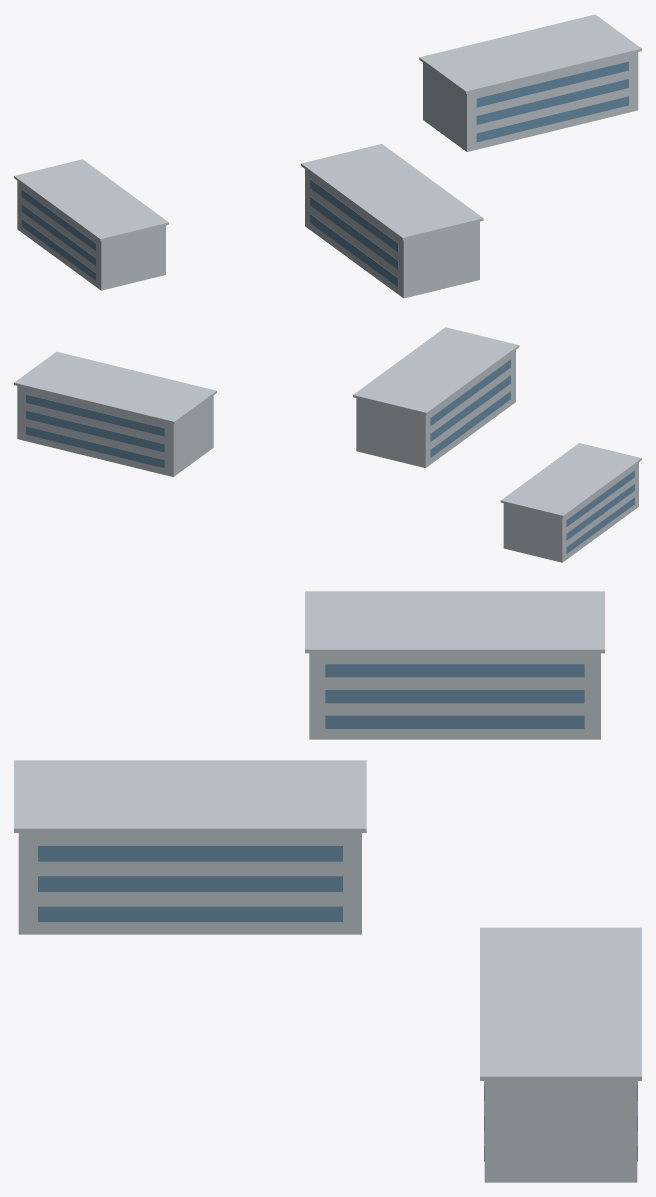
Rendered from GeoSandbox装配.glb.
3 views of the same model, one above another, from view 1: azimuth 30°, elevation 25°; view 2: azimuth 150°, elevation 25°; view 3: azimuth 270°, elevation 25° (orthographic). The views are drawn at different scales.
Visible parts, largest first — view 1: 教学楼 A 2/Main block, 教学楼 A 2/Roof cap, 教学楼 A 1/Roof cap, 教学楼 A 1/Main block, 教学楼 A 3/Roof cap, 教学楼 A 3/Main block, 教学楼 A 2/Window strip 8.03 floor 0, 教学楼 A 2/Window strip 8.03 floor 1, 教学楼 A 2/Window strip 8.03 floor 2, 教学楼 A 1/Window strip -8.03 floor 0, 教学楼 A 1/Window strip -8.03 floor 1, 教学楼 A 1/Window strip -8.03 floor 2 (+3 smaller); view 2: 教学楼 A 2/Main block, 教学楼 A 2/Roof cap, 教学楼 A 1/Roof cap, 教学楼 A 1/Main block, 教学楼 A 3/Roof cap, 教学楼 A 3/Main block, 教学楼 A 2/Window strip -8.03 floor 2, 教学楼 A 2/Window strip -8.03 floor 0, 教学楼 A 2/Window strip -8.03 floor 1, 教学楼 A 1/Window strip -8.03 floor 1, 教学楼 A 1/Window strip -8.03 floor 2, 教学楼 A 1/Window strip -8.03 floor 0 (+3 smaller); view 3: 教学楼 A 1/Roof cap, 教学楼 A 2/Roof cap, 教学楼 A 1/Main block, 教学楼 A 3/Roof cap, 教学楼 A 2/Main block, 教学楼 A 3/Main block, 教学楼 A 1/Window strip 8.03 floor 2, 教学楼 A 1/Window strip 8.03 floor 0, 教学楼 A 1/Window strip 8.03 floor 1, 教学楼 A 3/Window strip 8.03 floor 1, 教学楼 A 3/Window strip 8.03 floor 0, 教学楼 A 3/Window strip 8.03 floor 2.
Boxes of the visible parts, bbox=[...] form: 教学楼 A 2/Main block: bbox=[423, 52, 638, 151]; 教学楼 A 2/Roof cap: bbox=[419, 14, 641, 93]; 教学楼 A 1/Roof cap: bbox=[301, 144, 483, 240]; 教学楼 A 1/Main block: bbox=[305, 169, 479, 298]; 教学楼 A 3/Roof cap: bbox=[14, 159, 168, 241]; 教学楼 A 3/Main block: bbox=[17, 181, 165, 290]; 教学楼 A 2/Window strip 8.03 floor 0: bbox=[476, 96, 628, 142]; 教学楼 A 2/Window strip 8.03 floor 1: bbox=[476, 79, 628, 124]; 教学楼 A 2/Window strip 8.03 floor 2: bbox=[476, 61, 628, 107]; 教学楼 A 1/Window strip -8.03 floor 0: bbox=[310, 214, 398, 286]; 教学楼 A 1/Window strip -8.03 floor 1: bbox=[310, 196, 398, 269]; 教学楼 A 1/Window strip -8.03 floor 2: bbox=[310, 179, 398, 251]; 教学楼 A 2/Main block: bbox=[17, 386, 213, 476]; 教学楼 A 2/Roof cap: bbox=[14, 351, 216, 423]; 教学楼 A 1/Roof cap: bbox=[353, 327, 519, 414]; 教学楼 A 1/Main block: bbox=[356, 350, 515, 467]; 教学楼 A 3/Roof cap: bbox=[500, 443, 641, 517]; 教学楼 A 3/Main block: bbox=[503, 462, 638, 562]; 教学楼 A 2/Window strip -8.03 floor 2: bbox=[26, 394, 164, 436]; 教学楼 A 2/Window strip -8.03 floor 0: bbox=[26, 426, 164, 468]; 教学楼 A 2/Window strip -8.03 floor 1: bbox=[26, 410, 164, 452]; 教学楼 A 1/Window strip -8.03 floor 1: bbox=[430, 375, 510, 441]; 教学楼 A 1/Window strip -8.03 floor 2: bbox=[430, 359, 510, 425]; 教学楼 A 1/Window strip -8.03 floor 0: bbox=[430, 391, 510, 457]; 教学楼 A 1/Roof cap: bbox=[14, 760, 366, 832]; 教学楼 A 2/Roof cap: bbox=[480, 927, 641, 1080]; 教学楼 A 1/Main block: bbox=[18, 833, 361, 934]; 教学楼 A 3/Roof cap: bbox=[305, 591, 604, 653]; 教学楼 A 2/Main block: bbox=[484, 1081, 637, 1182]; 教学楼 A 3/Main block: bbox=[309, 653, 600, 739]; 教学楼 A 1/Window strip 8.03 floor 2: bbox=[38, 845, 342, 861]; 教学楼 A 1/Window strip 8.03 floor 0: bbox=[38, 906, 342, 921]; 教学楼 A 1/Window strip 8.03 floor 1: bbox=[38, 876, 342, 891]; 教学楼 A 3/Window strip 8.03 floor 1: bbox=[325, 689, 584, 703]; 教学楼 A 3/Window strip 8.03 floor 0: bbox=[325, 715, 584, 728]; 教学楼 A 3/Window strip 8.03 floor 2: bbox=[325, 664, 584, 677].
Bounding box in the file's own units: 124 × 12.5 × 65.86.
